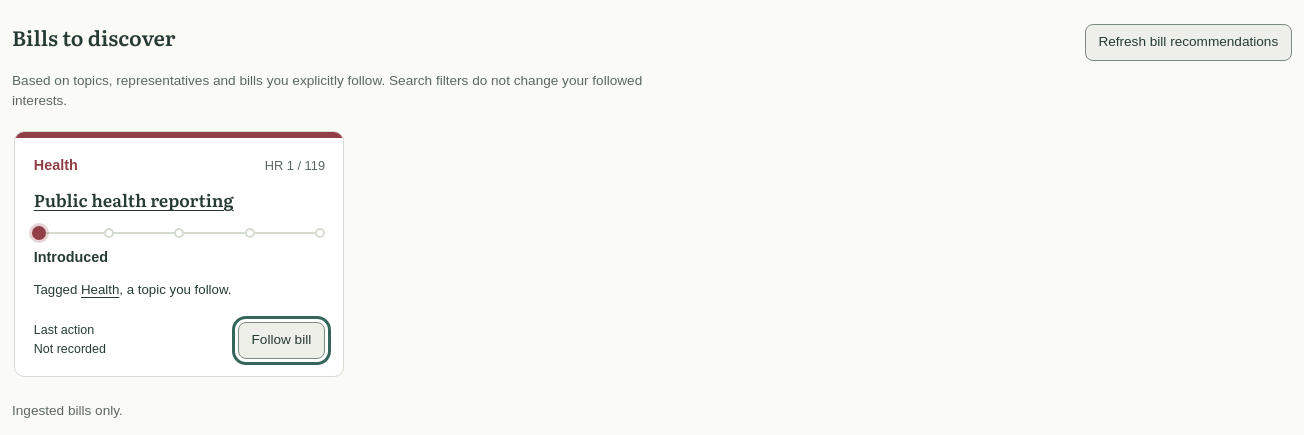
Test case: recommendation rows › clears cards on successful follows and session loss before a late reload
Click the button with aria-label "Follow bill HR 1 / 119" at (281, 340), box 238,322 -> 325,359
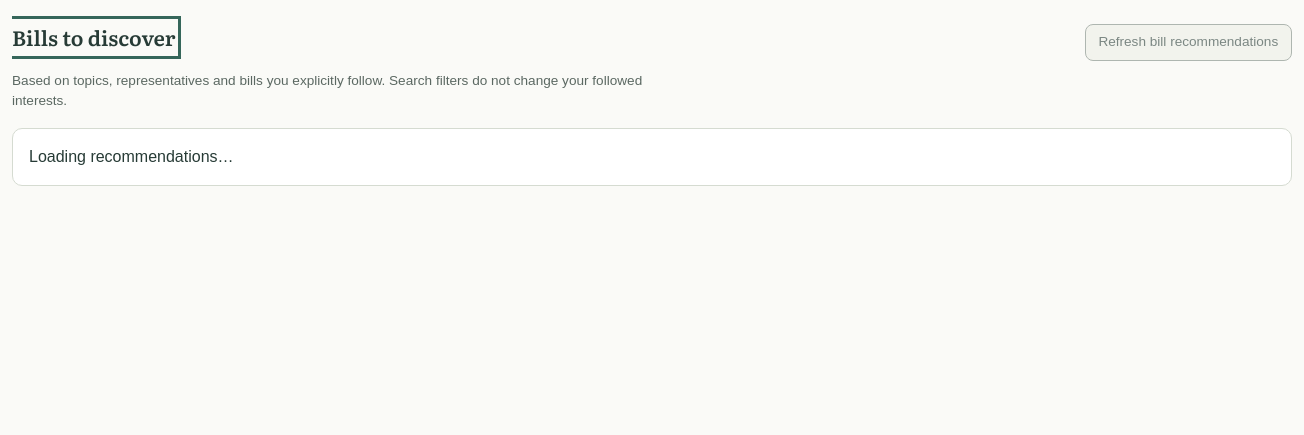
Now the link "Public health reporting" is gone
